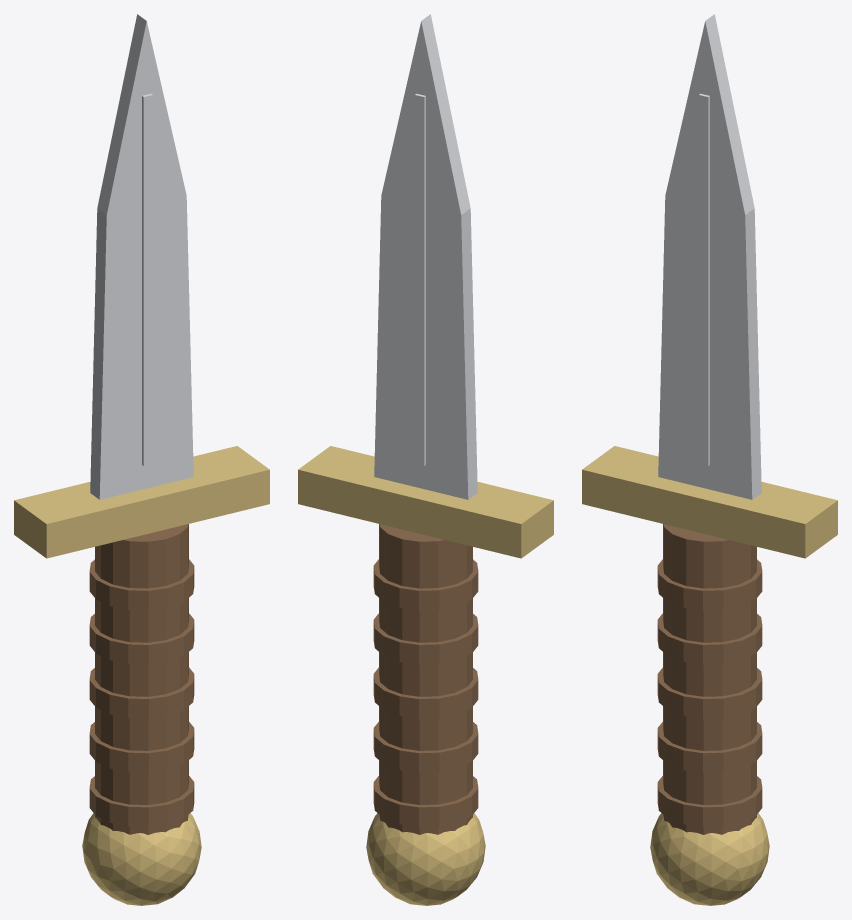
3 renders of one model, left to right at view 1: azimuth 30°, elevation 25°; view 2: azimuth 150°, elevation 25°; view 3: azimuth 330°, elevation 25°, orthographic.
Parts seen in each view (by area): view 1: dn0, dn2, dn1; view 2: dn0, dn2, dn1; view 3: dn0, dn2, dn1.
Part boxes in pixels (<box>): dn0: <box>90,14,193,499</box>; dn2: <box>89,524,194,834</box>; dn1: <box>14,446,269,905</box>; dn0: <box>374,14,477,499</box>; dn2: <box>373,524,478,834</box>; dn1: <box>298,446,553,905</box>; dn0: <box>658,14,761,499</box>; dn2: <box>657,524,762,834</box>; dn1: <box>582,446,837,905</box>.
Size of the model in its own units: 0.095 by 0.359 by 0.044.
